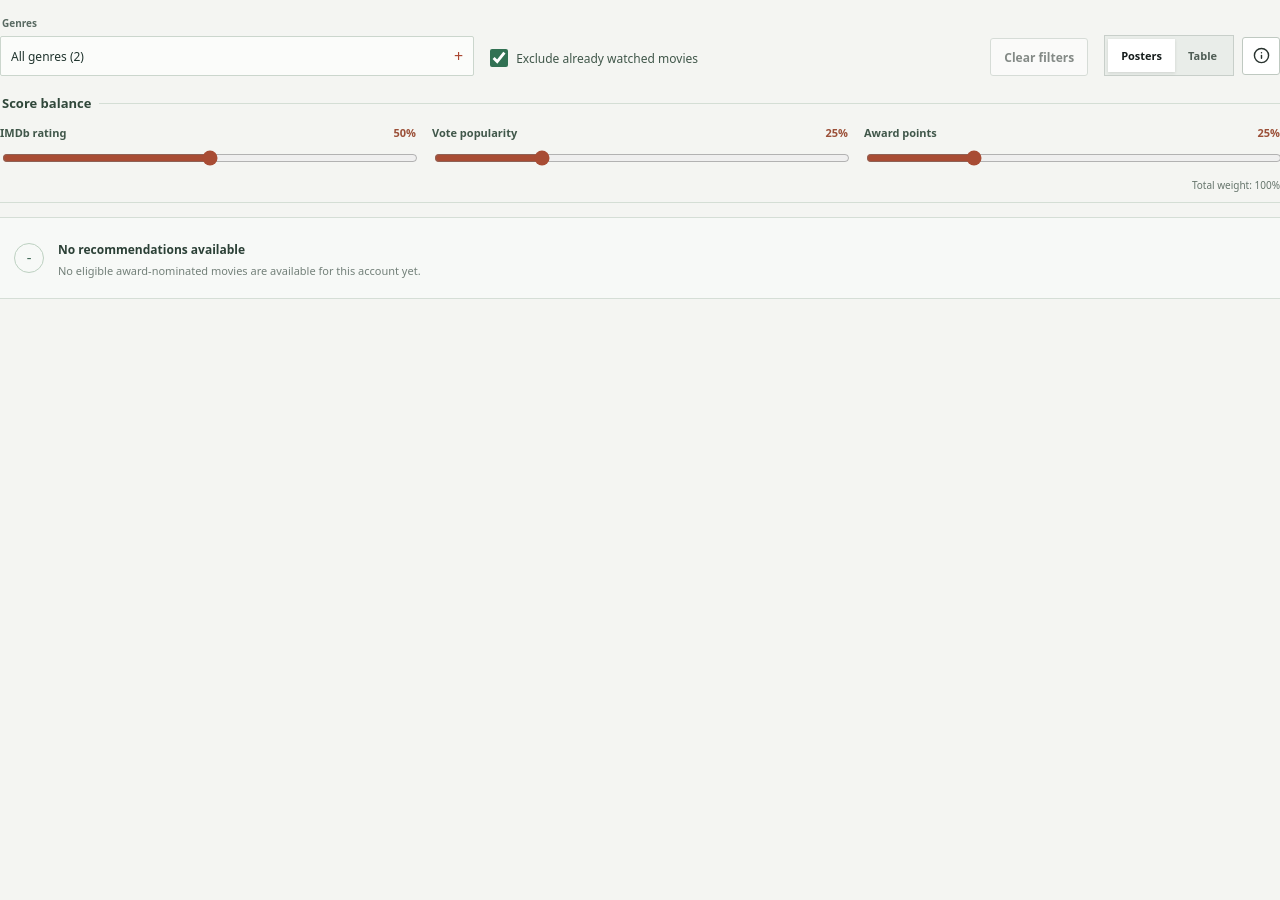
it: RecommendationsView › opens the score explanation for movie recommendations
This screenshot has width=1280, height=900.
Expected: the text "No recommendations available" is shown, x1=58 y1=241 x2=245 y2=258
Expected: the button "Posters" is shown, x1=1108 y1=39 x2=1175 y2=72
Click the button named "How recommendation scores are calculated": [1261, 56] box x1=1242 y1=36 x2=1279 y2=74
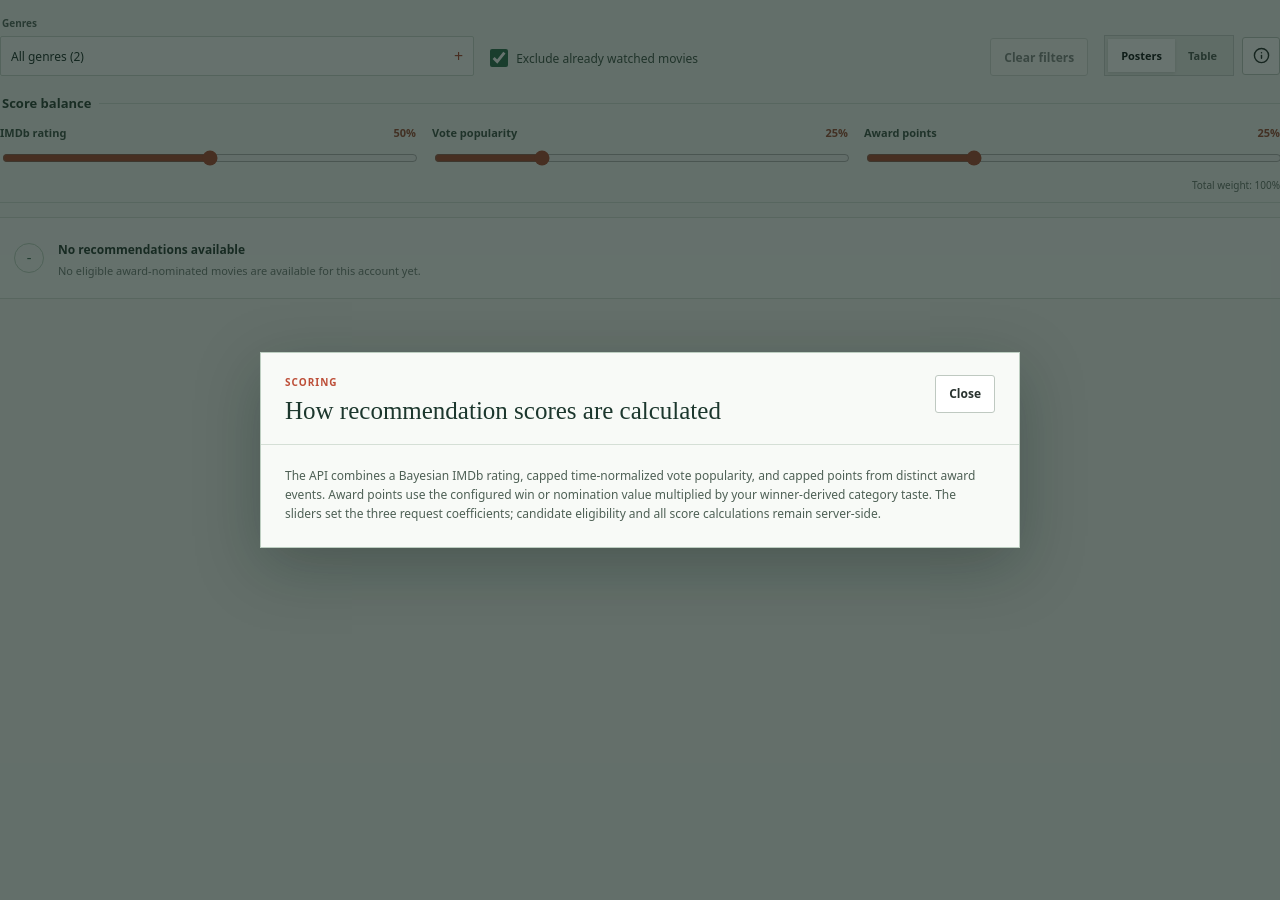
Expected: the text "Bayesian IMDb rating, capped time-normalized vote popularity" is shown, x1=285 y1=467 x2=975 y2=522
Click the button with aria-label "Close recommendation scoring explanation": [965, 394] box x1=935 y1=375 x2=995 y2=413
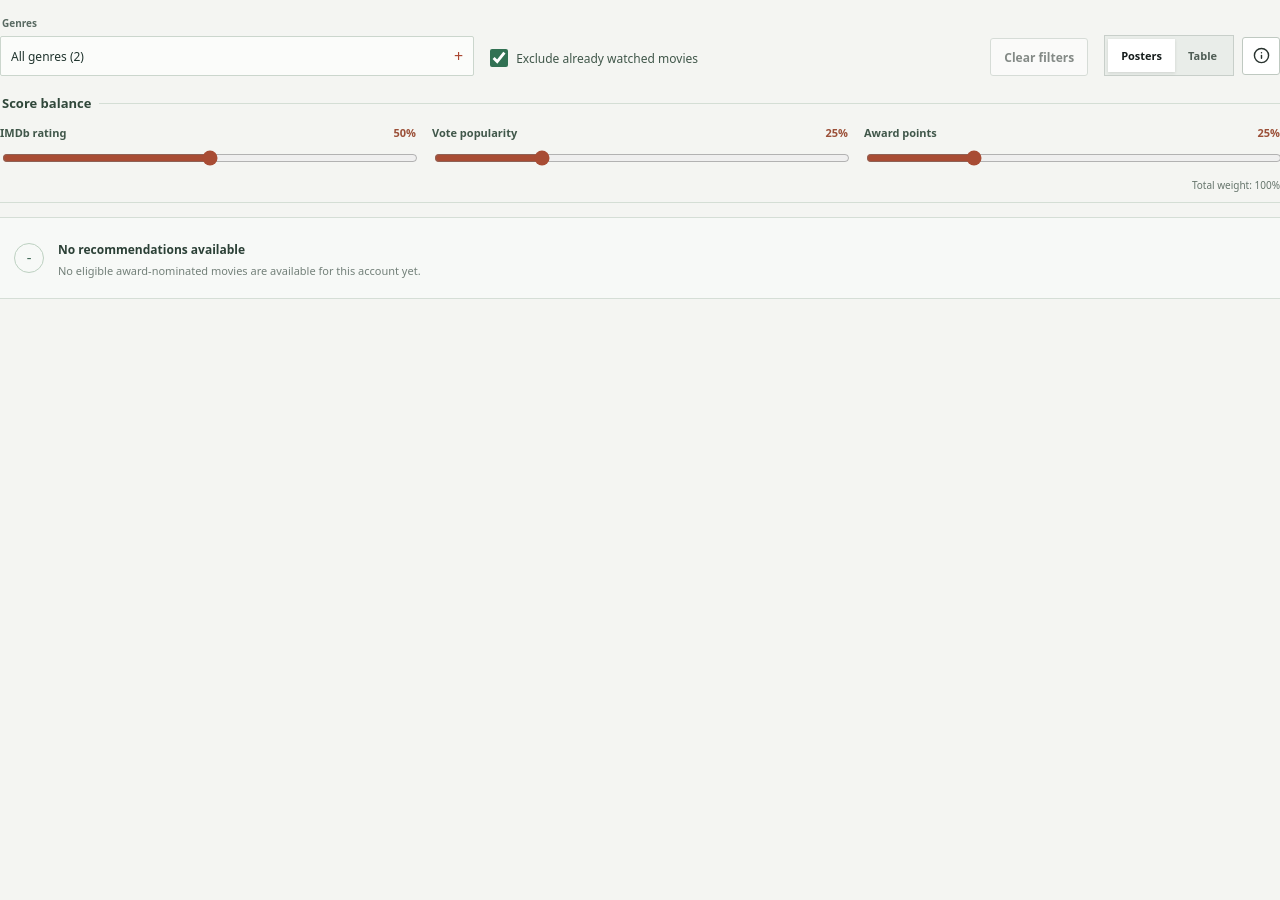
Expected: the dialog is gone
